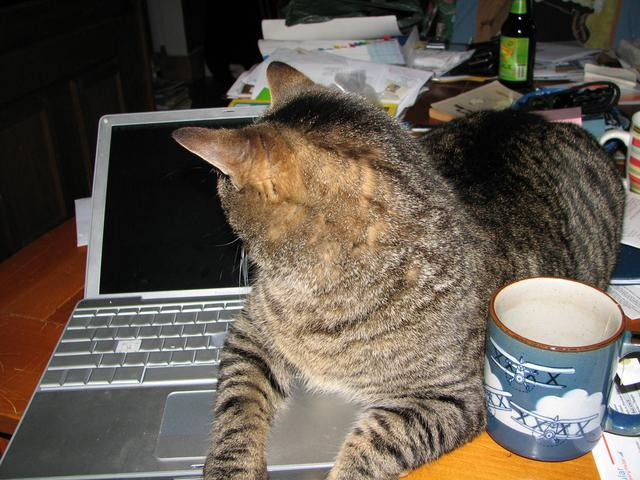cat: (176, 42, 625, 442)
